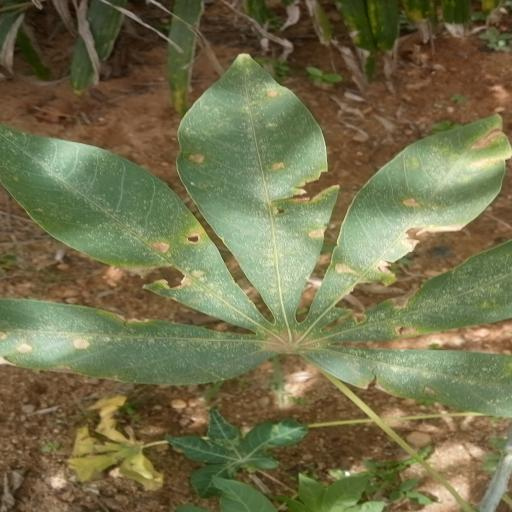Cassava_Brown_Leaf_Spot: (5, 51, 512, 419)
